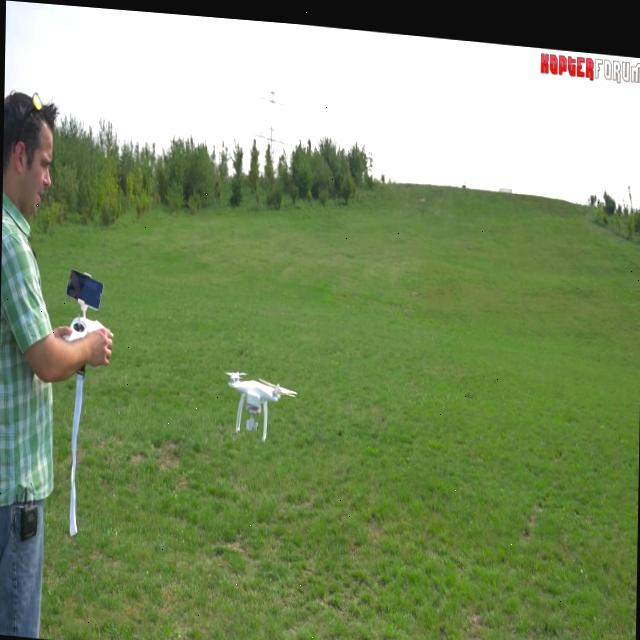drone: (223, 362, 298, 438)
